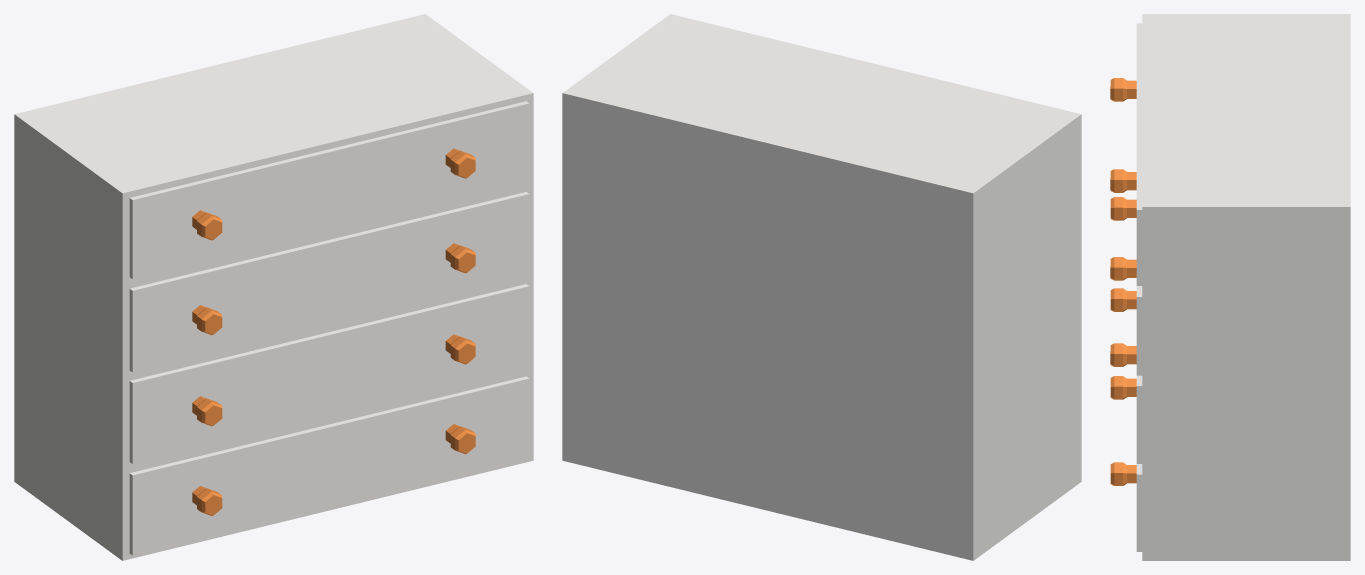
File: Chest_of_drawers.fbx
3 renders of one model, left to right at view 1: azimuth 30°, elevation 25°; view 2: azimuth 150°, elevation 25°; view 3: azimuth 270°, elevation 25°, orthographic. The views are drawn at different scales.
Visible parts, largest first — view 1: Chest_of_drawers; view 2: Chest_of_drawers; view 3: Chest_of_drawers.
Part boxes in pixels (x1,y1,x2,y2): Chest_of_drawers: (14,14,533,560); Chest_of_drawers: (562,14,1081,560); Chest_of_drawers: (1110,14,1350,560).
Size of the model in its own units: 159 by 83.65 by 136.
